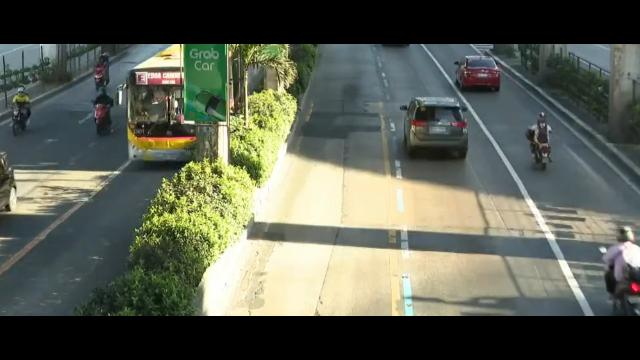bus: (125, 39, 202, 167)
car: (404, 96, 467, 157), (454, 54, 501, 96)
motorcycle: (599, 223, 640, 315), (525, 112, 552, 170), (10, 84, 31, 136), (93, 87, 112, 135), (95, 53, 112, 94)
